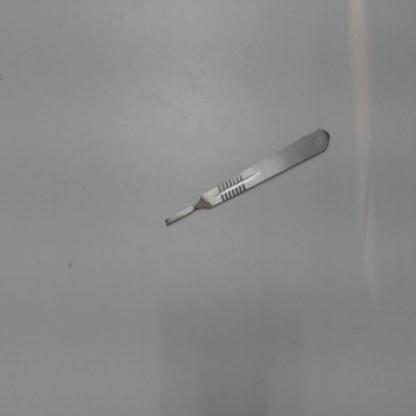No.4 BP Handle: (155, 117, 341, 241)
